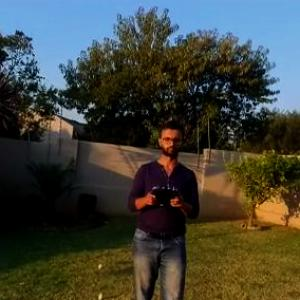follow: (127, 107, 208, 299)
